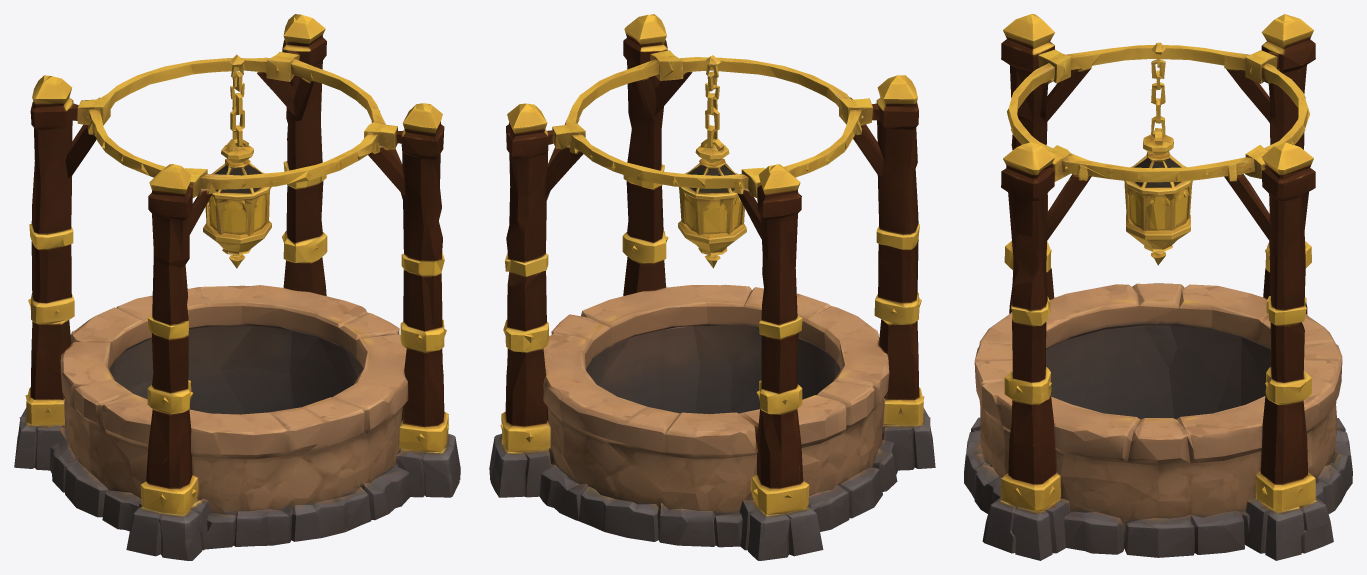
Rendered from TWN_STR_lampwell_A.glb.
The picture shows the model from 3 angles, left to right: view 1: azimuth 30°, elevation 25°; view 2: azimuth 150°, elevation 25°; view 3: azimuth 270°, elevation 25°; orthographic projection. The views are drawn at different scales.
Parts seen in each view (by area): view 1: Mesh_0; view 2: Mesh_0; view 3: Mesh_0.
Boxes of the visible parts, <box> form: Mesh_0: <box>14,14,460,560</box>; Mesh_0: <box>489,14,935,560</box>; Mesh_0: <box>964,14,1352,560</box>.
Size of the model in its own units: 1.6 by 1.9 by 1.54.
1 material, 1 textured.
